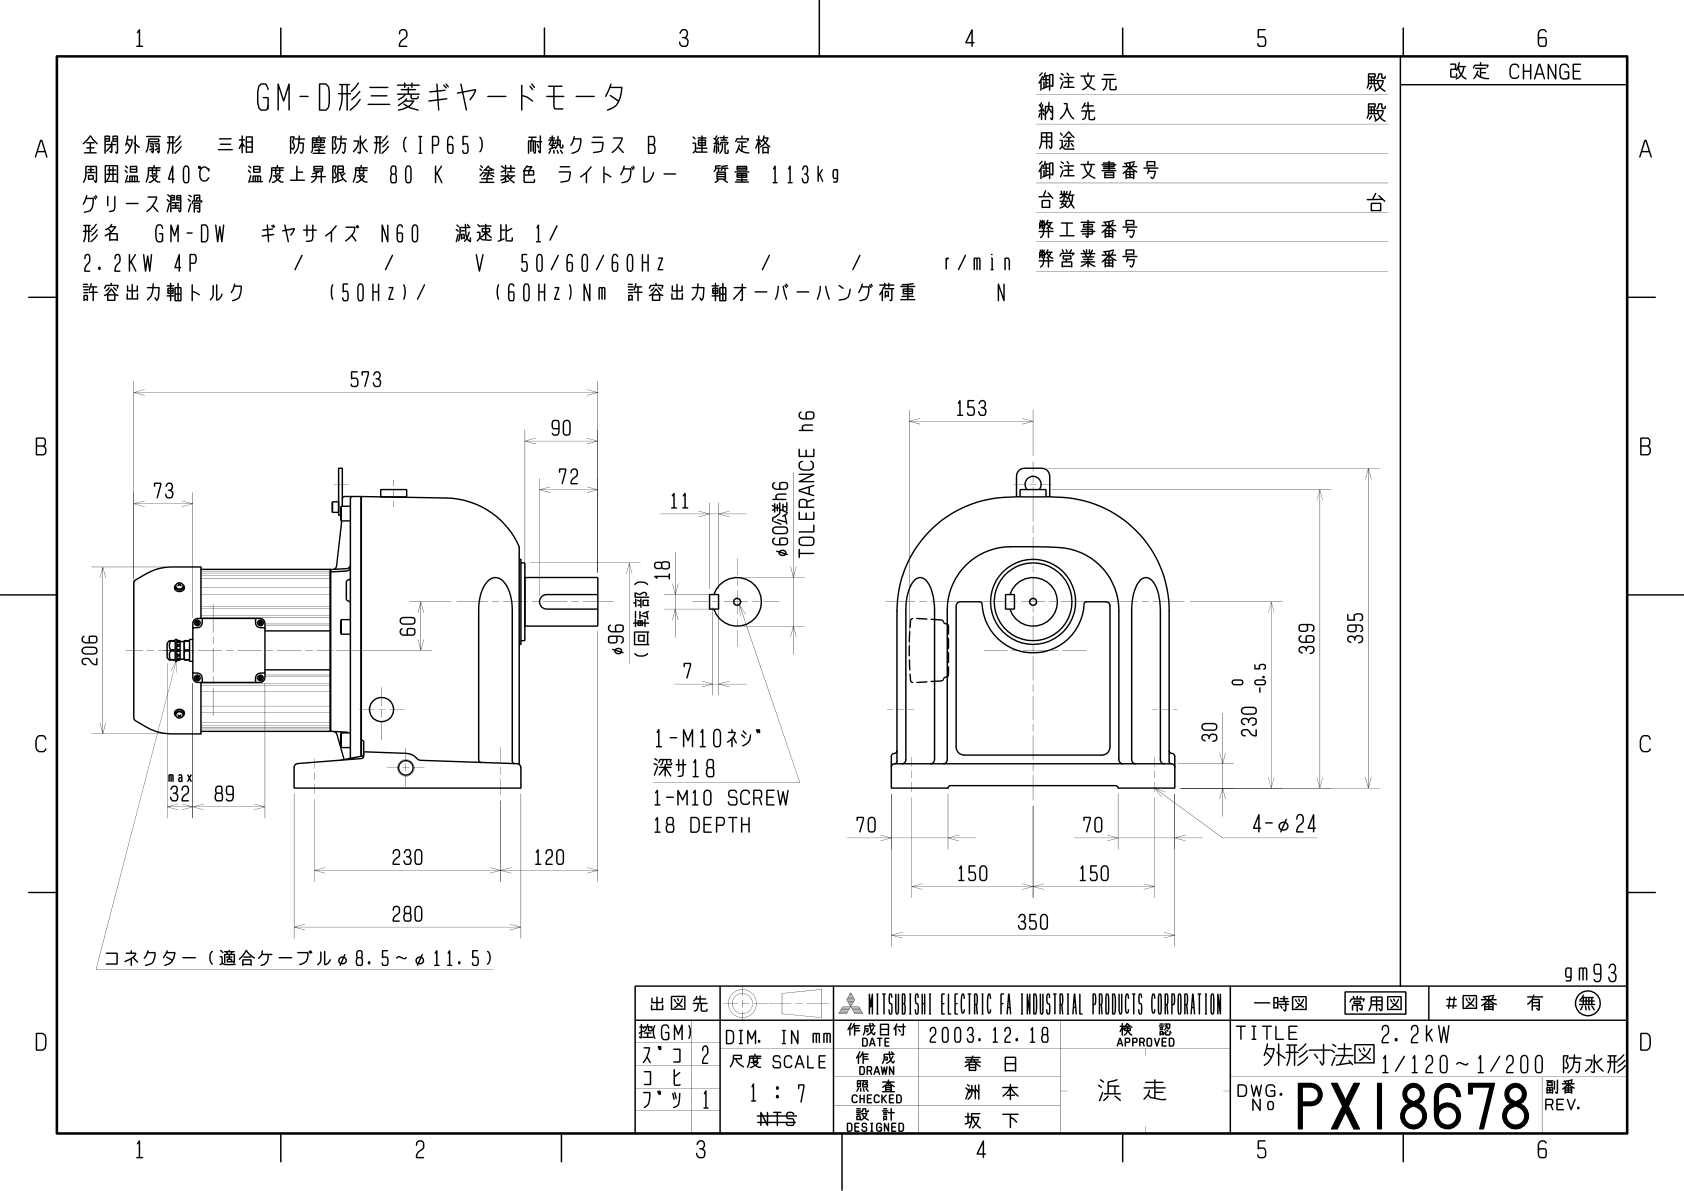GM_D_IP65_三相_脚: (67, 333, 1383, 974)
